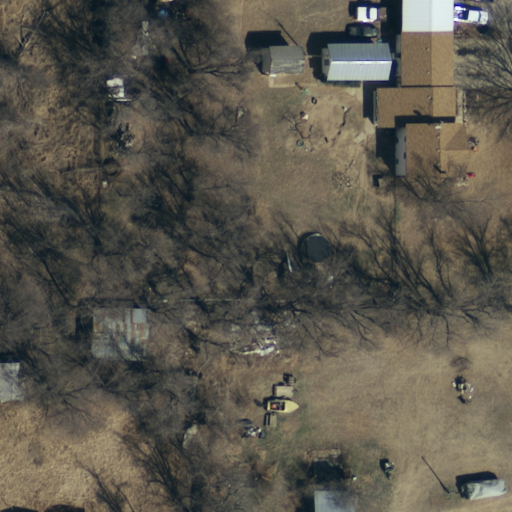DT: (444, 483, 462, 504)
